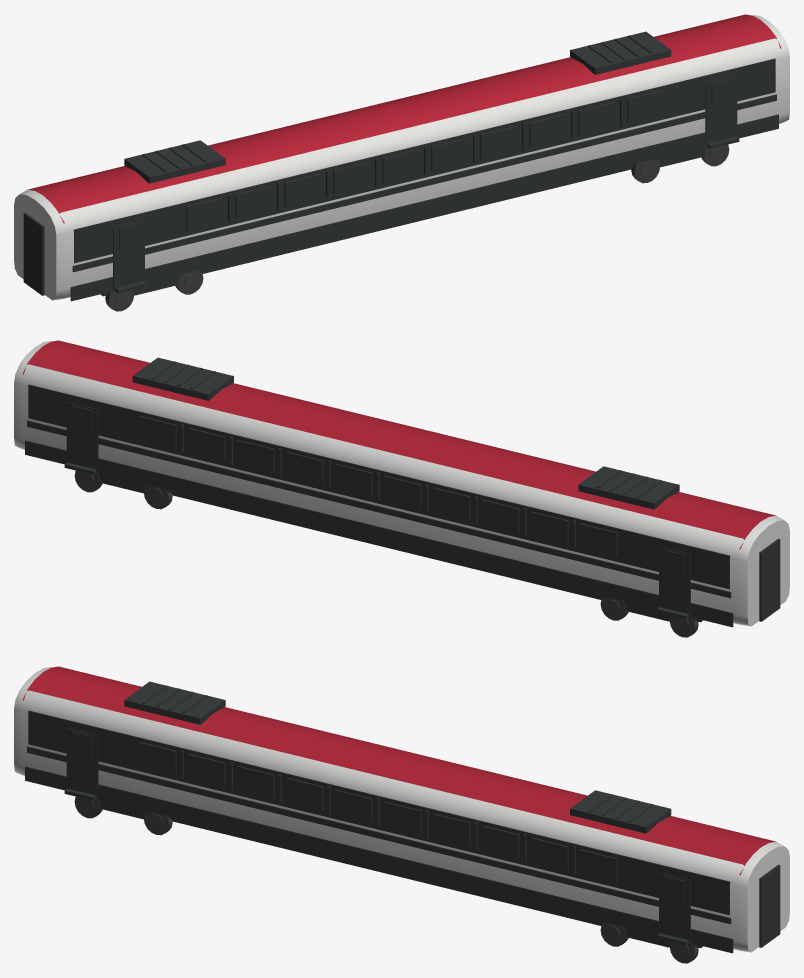
Rendered from railjet-classic-economy.glb.
The picture shows the model from 3 angles, top to bottom: view 1: azimuth 30°, elevation 25°; view 2: azimuth 150°, elevation 25°; view 3: azimuth 330°, elevation 25°; orthographic projection.
Visible parts, largest first — view 1: railjet_economy_lofted_body, economy_red_roof, economy_window_band_-1, economy_lower_skirt_-1, economy_red_belt_-1, economy_hvac_0, economy_hvac_1, economy_underframe_spine, economy_door_-1_1, gangway_1, economy_door_-1_0, economy_bogie_a (+11 smaller); view 2: railjet_economy_lofted_body, economy_red_roof, economy_window_band_1, economy_lower_skirt_1, economy_red_belt_1, economy_hvac_0, economy_hvac_1, economy_underframe_spine, economy_door_1_1, gangway_1, economy_door_1_0, economy_bogie_b (+11 smaller); view 3: railjet_economy_lofted_body, economy_red_roof, economy_window_band_-1, economy_lower_skirt_-1, economy_red_belt_-1, economy_hvac_0, economy_hvac_1, economy_underframe_spine, economy_door_-1_0, gangway_0, economy_door_-1_1, economy_bogie_b (+11 smaller).
Part boxes in pixels (x1,y1,x2,y2): railjet_economy_lofted_body: (14,15,789,300); economy_red_roof: (27,14,781,223); economy_window_band_-1: (73,58,775,263); economy_lower_skirt_-1: (70,114,778,301); economy_red_belt_-1: (72,94,776,272); economy_hvac_0: (124,140,225,183); economy_hvac_1: (570,31,671,74); economy_underframe_spine: (202,165,631,273); economy_door_-1_1: (705,75,737,145); gangway_1: (23,212,44,295); economy_door_-1_0: (113,220,144,290); economy_bogie_a: (105,270,203,311); railjet_economy_lofted_body: (14,341,789,626); economy_red_roof: (22,340,776,549); economy_window_band_1: (28,384,730,589); economy_lower_skirt_1: (25,440,733,627); economy_red_belt_1: (27,420,731,598); economy_hvac_0: (578,466,679,509); economy_hvac_1: (132,357,233,400); economy_underframe_spine: (172,491,601,599); economy_door_1_1: (66,401,98,471); gangway_1: (759,538,780,621); economy_door_1_0: (659,546,690,616); economy_bogie_b: (74,470,172,509); railjet_economy_lofted_body: (14,667,789,952); economy_red_roof: (22,666,776,875); economy_window_band_-1: (28,710,730,915); economy_lower_skirt_-1: (25,766,733,953); economy_red_belt_-1: (27,746,731,924); economy_hvac_0: (124,681,225,724); economy_hvac_1: (570,790,671,833); economy_underframe_spine: (172,817,601,925); economy_door_-1_0: (66,727,98,797); gangway_0: (759,864,780,947); economy_door_-1_1: (659,872,690,942); economy_bogie_b: (600,922,698,963).
Bounding box in the file's own units: 26.66 × 4.29 × 3.35.
